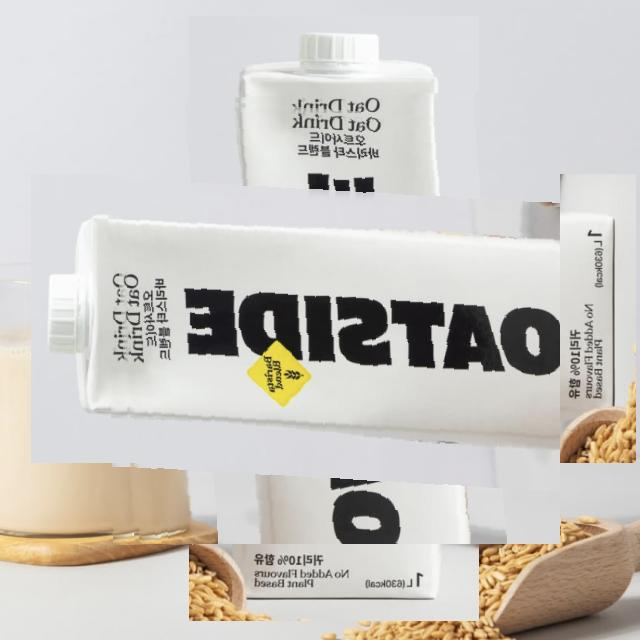biodegradable: (108, 93, 560, 544)
